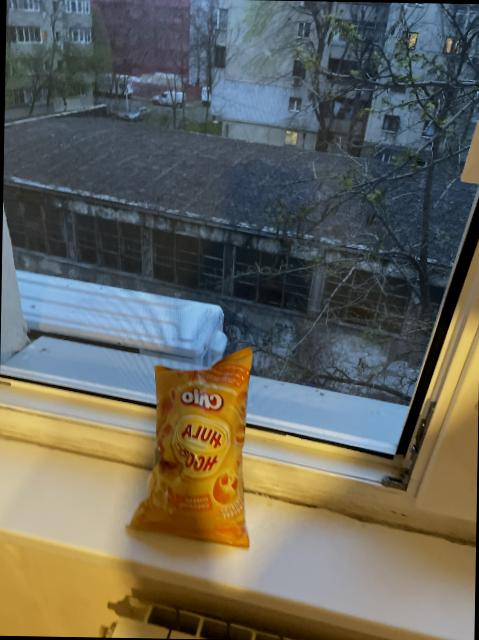Chio Hula Hoops Cheese 70g: (125, 346, 255, 548)
